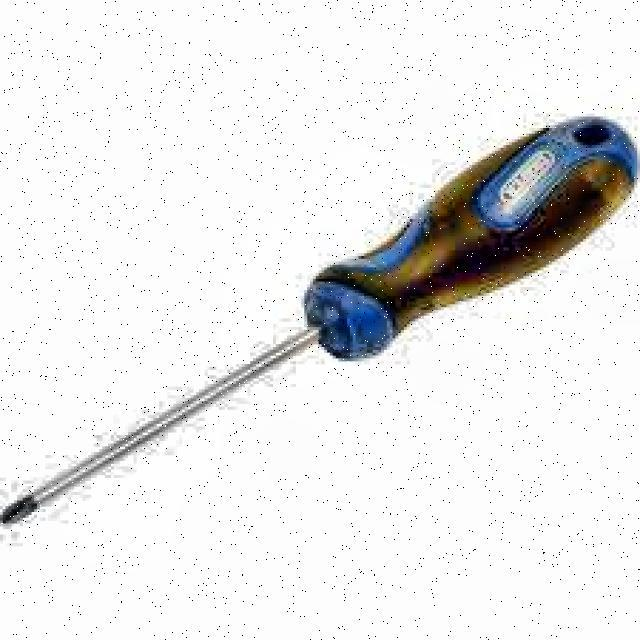screwdriver: (1, 116, 640, 522)
